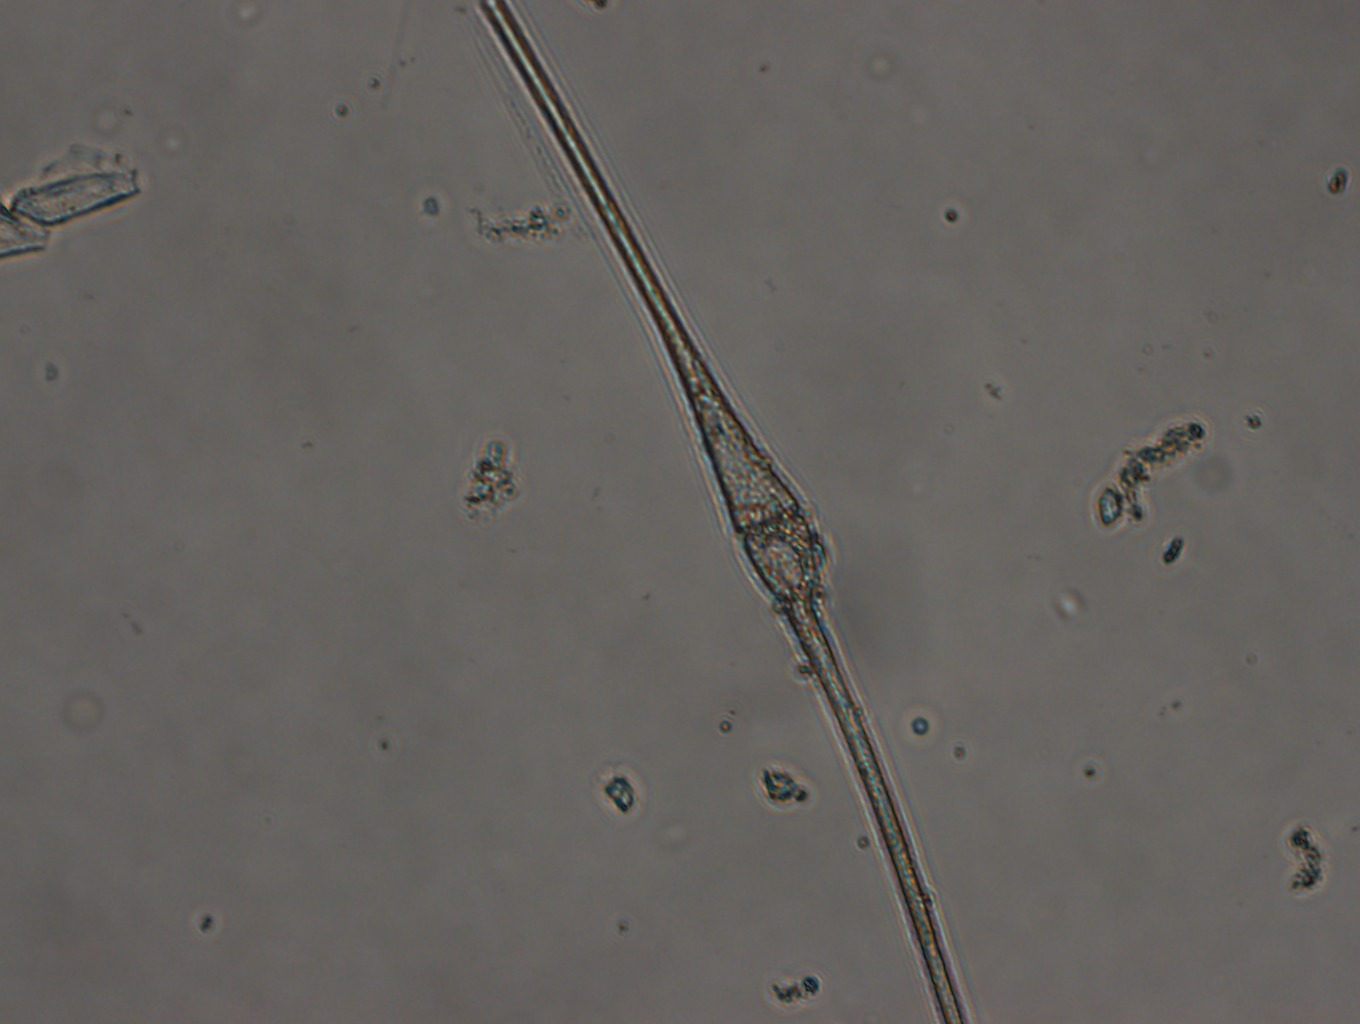ceratium fusus: (474, 1, 972, 1024)
